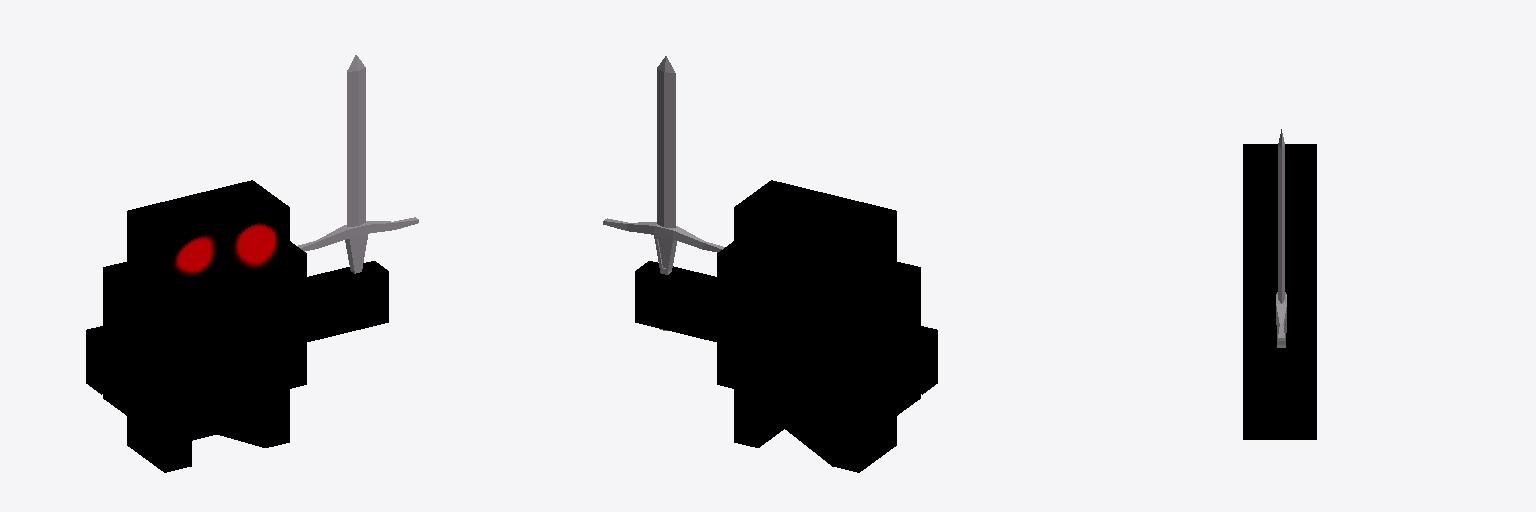
The picture shows the model from 3 angles: view 1: azimuth 30°, elevation 25°; view 2: azimuth 150°, elevation 25°; view 3: azimuth 270°, elevation 25°; orthographic projection.
Parts seen in each view (by area): view 1: Enemy_Cube.001, Sword_Cube.002; view 2: Enemy_Cube.001, Sword_Cube.002; view 3: Enemy_Cube.001, Sword_Cube.002.
Boxes of the visible parts, x1,y1,x2,y2 form: Enemy_Cube.001: [86, 180, 388, 472]; Sword_Cube.002: [297, 55, 418, 273]; Enemy_Cube.001: [635, 180, 937, 472]; Sword_Cube.002: [603, 56, 724, 330]; Enemy_Cube.001: [1243, 144, 1316, 439]; Sword_Cube.002: [1276, 129, 1286, 347].
Bounding box in the file's own units: 0.9001 × 0.9366 × 0.1788.
Materials: 2 (2 with a texture image).